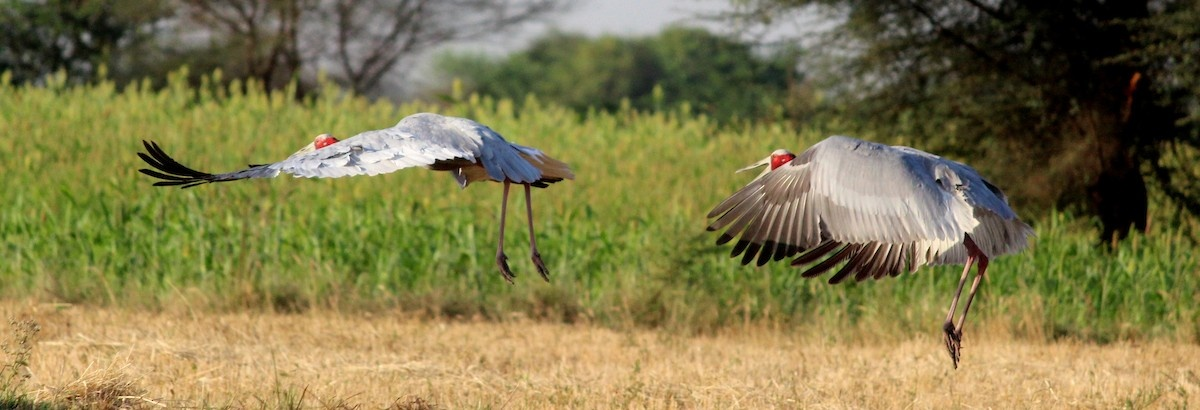crane: (133, 112, 581, 288), (708, 128, 1025, 374)
